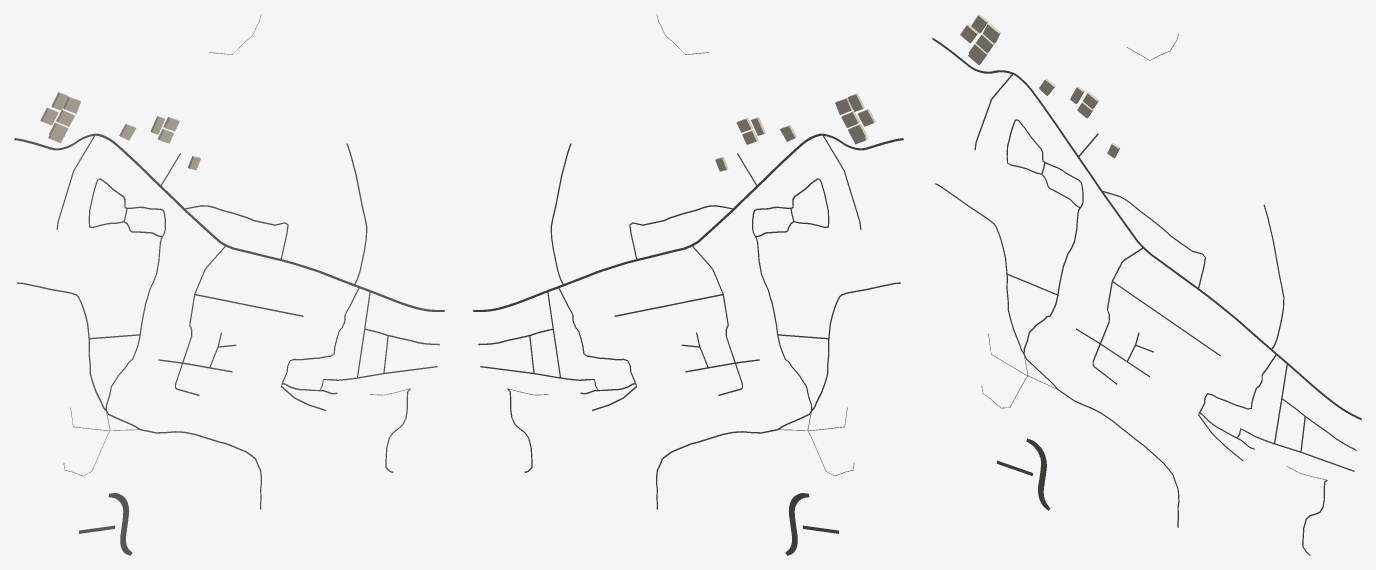
The model's file is historic-palestine-08_28_3504_3228.glb.
3 views of the same model, side by side, from view 1: azimuth 30°, elevation 25°; view 2: azimuth 150°, elevation 25°; view 3: azimuth 330°, elevation 25° (orthographic).
Visible parts, largest first — view 1: Road .024, Road .008, Road .025; view 2: Road .024, Road .008, Road .025; view 3: Road .024, Road .008, Road .025.
Part boxes in pixels (bbox=[...]): Road .024: bbox=[179, 204, 444, 311]; Road .008: bbox=[105, 236, 261, 509]; Road .025: bbox=[14, 133, 179, 205]; Road .024: bbox=[473, 204, 738, 311]; Road .008: bbox=[656, 236, 812, 509]; Road .025: bbox=[738, 133, 903, 205]; Road .024: bbox=[1096, 184, 1361, 420]; Road .008: bbox=[1023, 208, 1179, 527]; Road .025: bbox=[932, 38, 1097, 184].
Bounding box in the file's own units: 1078 × 1220 × 8.7.
